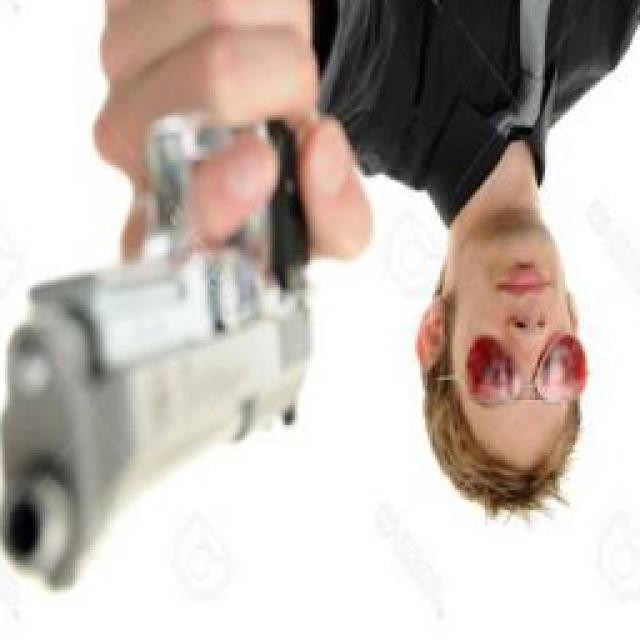pistol: (0, 0, 305, 583)
